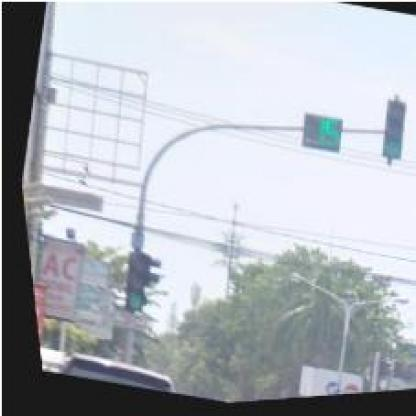green: (109, 251, 151, 317), (371, 104, 410, 168)
